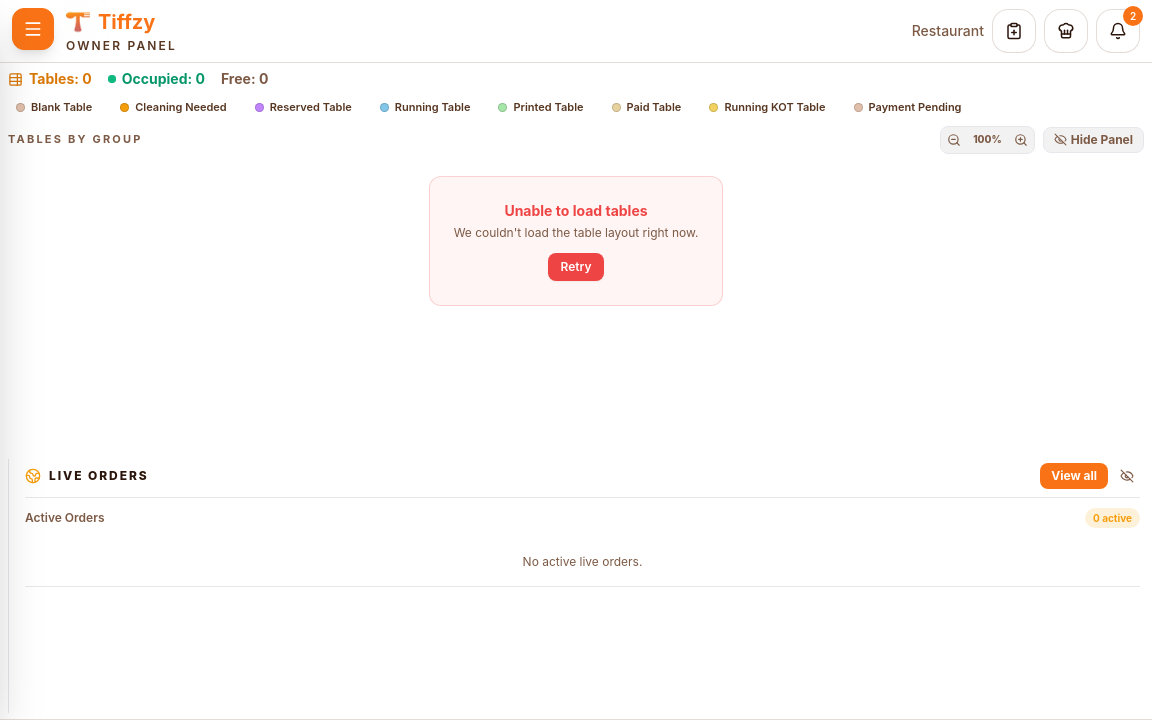
Owner Tables QA — 10 REGRESSION SCENARIOS TEST SUITE › TEST 4: GET /owner/:restaurantId/tables returns 500 renders Error UI + Retry button, no 'No tables found.'
expect the text "Unable to load tables" is shown: met, box [504, 200, 648, 220]
expect the text "We couldn't load the table layout right now." is shown: met, box [454, 224, 698, 240]
Click the button "Retry" at (576, 266), box [548, 252, 604, 280]
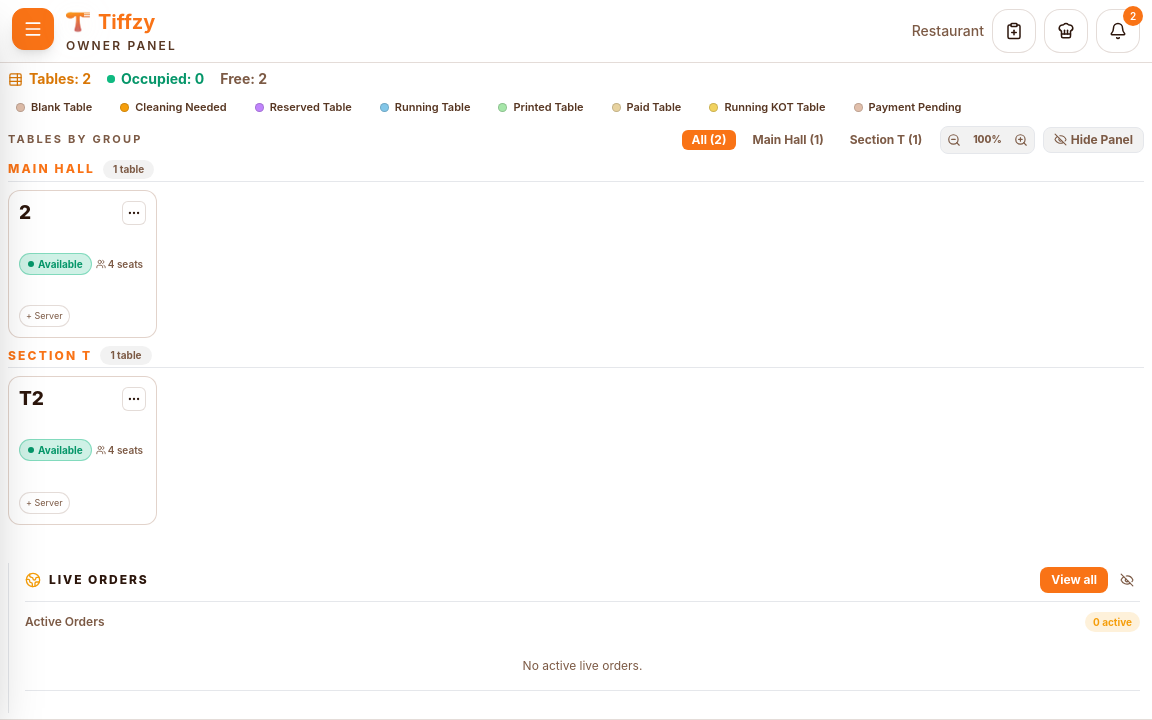
expect the text "Tables: 2" is shown: met, box [8, 69, 91, 89]
expect the text "Unable to load tables" is gone: met
